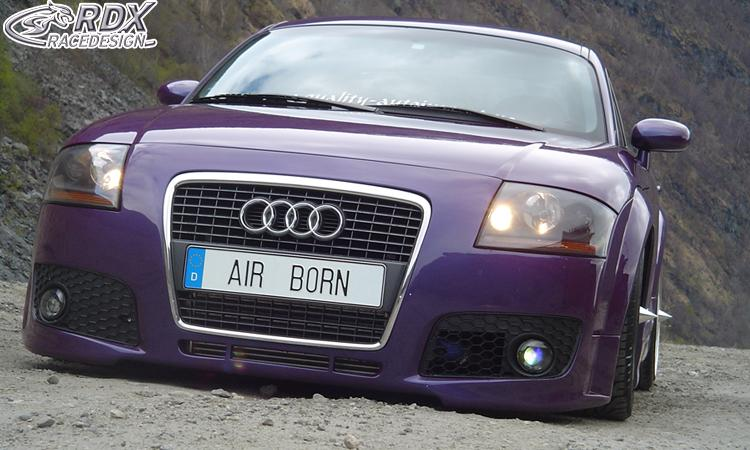audi: (237, 196, 352, 247)
